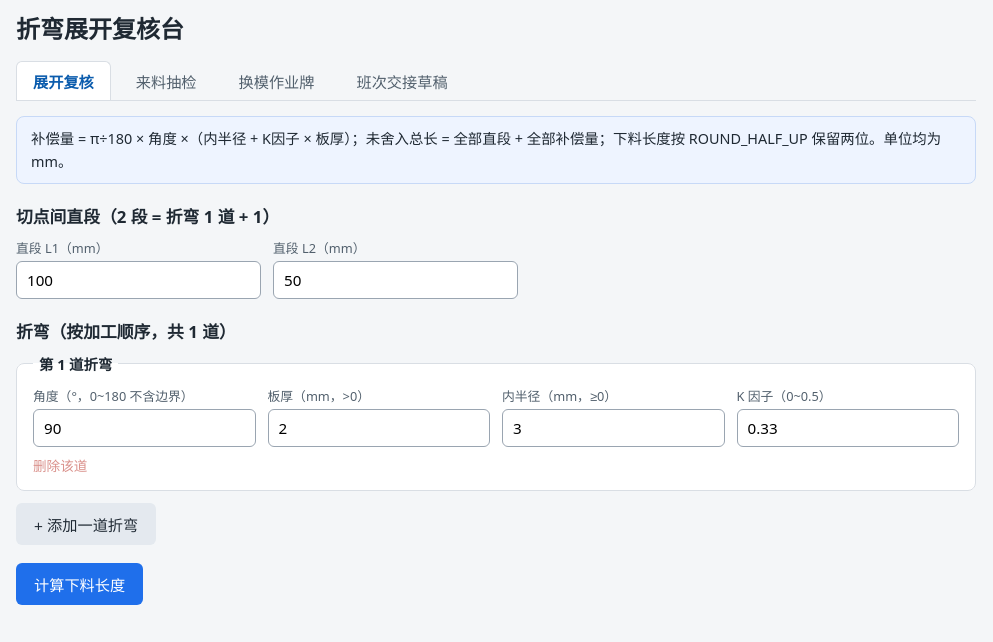
换模作业牌视图 › 过期修订号归还收到 412：显示过期原因与最新持有人，填写保留
Click the tab "换模作业牌" at (276, 81), box 222,61 -> 331,100
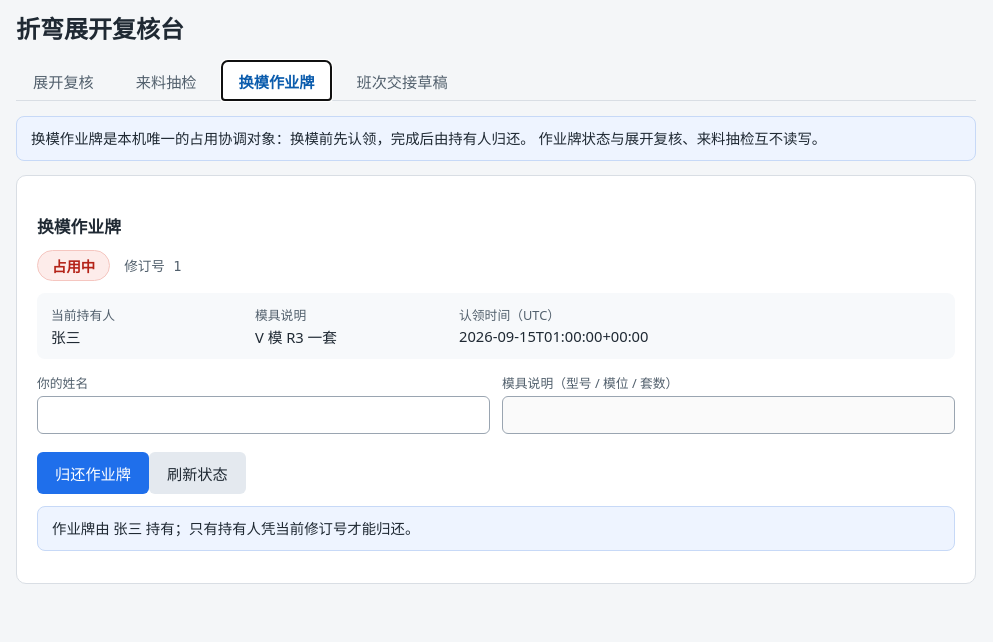
Expected: the text "占用中" is shown, 37,250 -> 110,281
Type "张三" into the field labelled "你的姓名" at (264, 415), box 37,396 -> 490,434
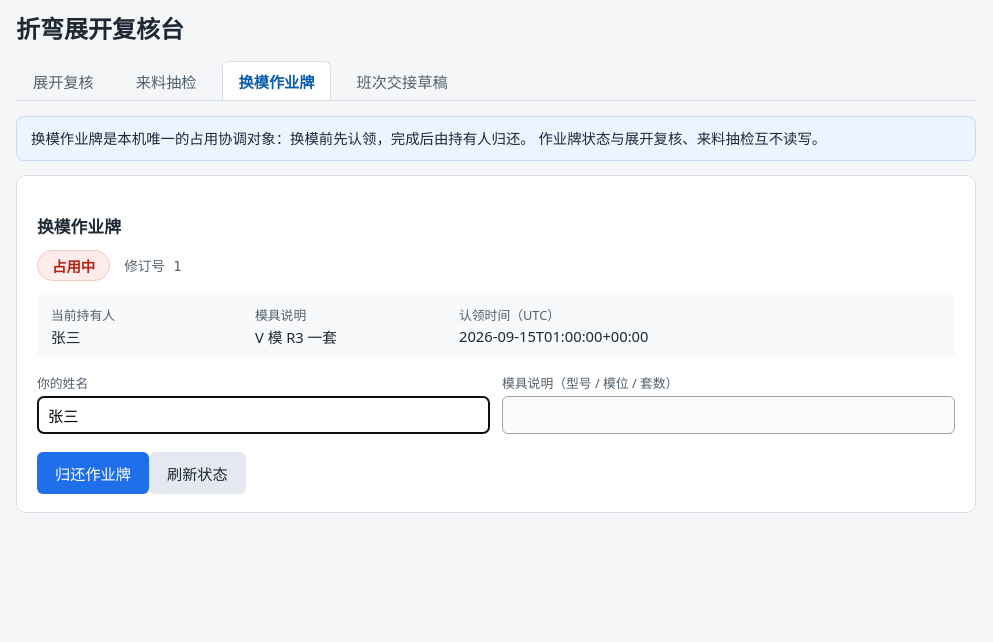
Click the button with test id "board-release" at (93, 473), box 37,452 -> 149,494
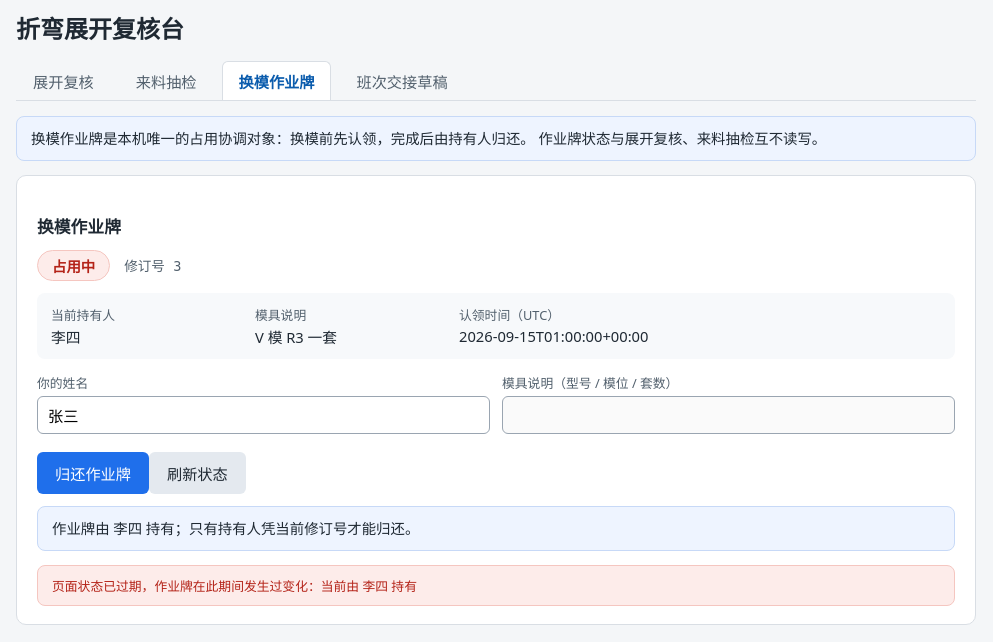
Expected: the text with test id "board-current-holder" reads "李四", 51,327 -> 80,347
Expected: the text with test id "board-revision" reads "修订号 3", 124,256 -> 181,276
Expected: the message with test id "board-conflict" shows "已过期", 37,565 -> 955,606
